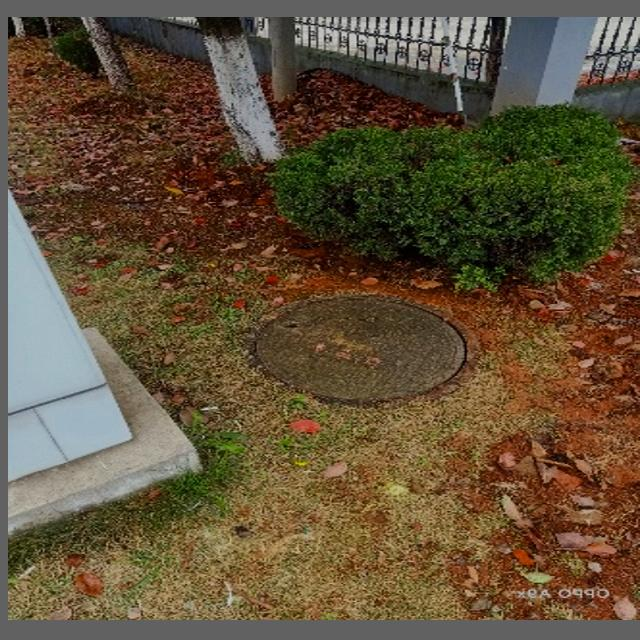good: (250, 294, 477, 407)
